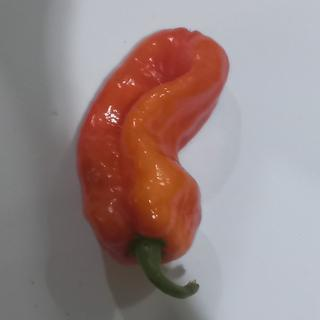Grade-A: (71, 22, 236, 269)
